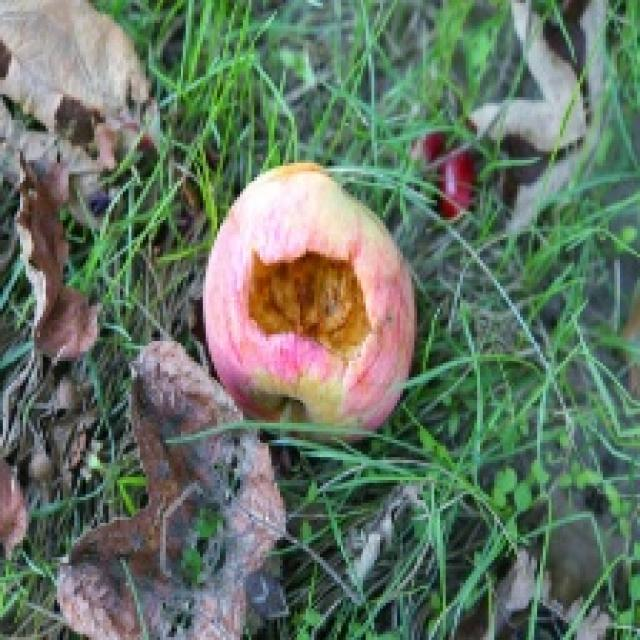rotten_apple: (208, 167, 415, 440)
